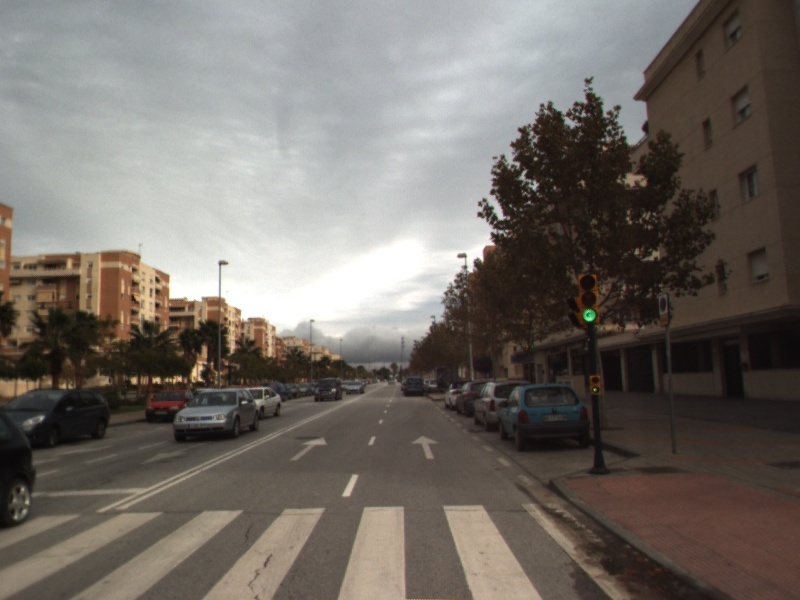STRAIGHT: (287, 435, 329, 463), (409, 433, 441, 461)
